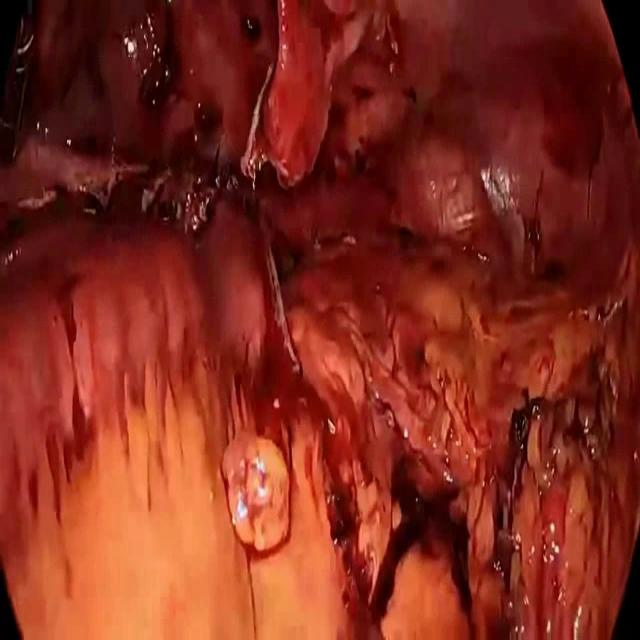surgical-area: (0, 0, 640, 639)
surgical-tool: (0, 12, 37, 163)
